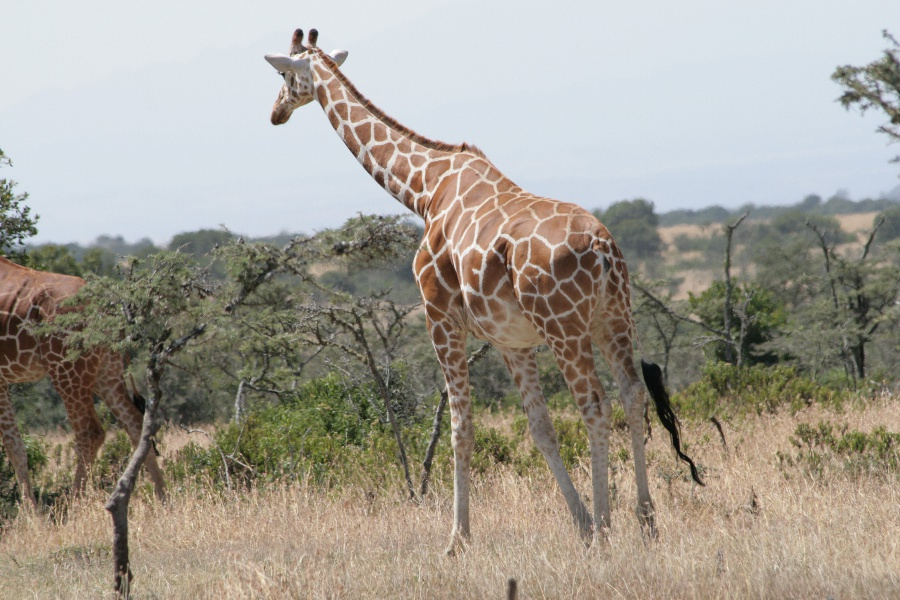giraffe: (251, 15, 674, 544), (1, 230, 186, 516)
